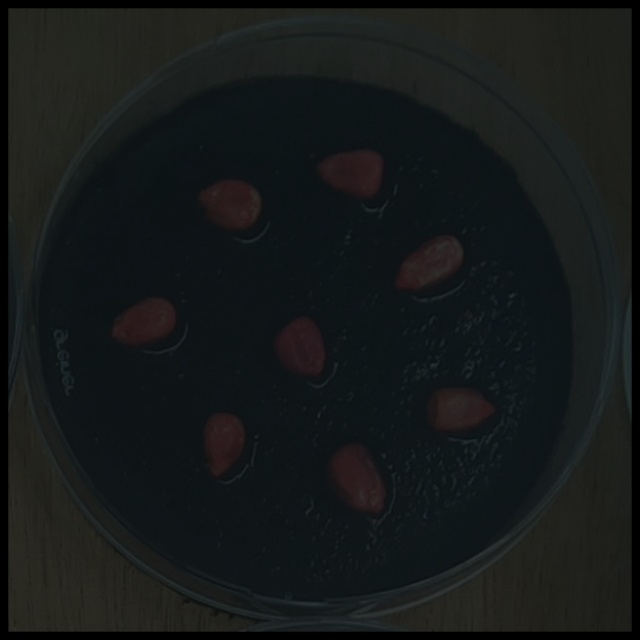Zea mays: (318, 434, 394, 519), (385, 225, 470, 297), (189, 169, 271, 240), (101, 288, 184, 356), (308, 139, 392, 206), (266, 307, 332, 385), (419, 378, 503, 439), (196, 401, 251, 483)
